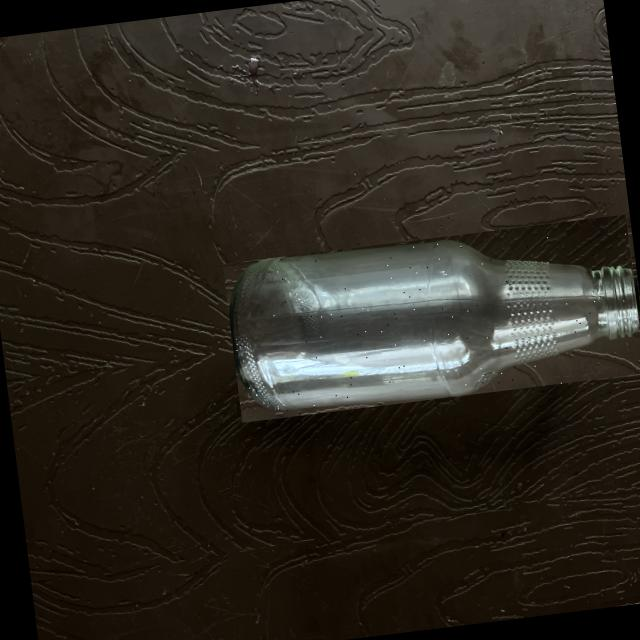Glass_Bottle: (229, 241, 638, 409)
